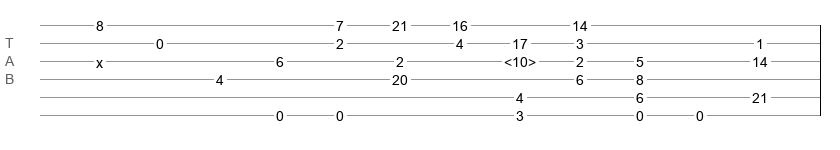0: (156, 36, 164, 46), (276, 108, 284, 118), (336, 108, 344, 118), (636, 108, 644, 118), (696, 108, 704, 118)
1: (756, 36, 764, 46)
14: (572, 18, 588, 28), (752, 54, 768, 64)
16: (452, 18, 468, 28)
17: (512, 36, 528, 46)
2: (336, 36, 344, 46), (396, 54, 404, 64), (576, 54, 584, 64)
20: (392, 72, 408, 82)
21: (392, 18, 408, 28), (752, 90, 768, 100)
3: (516, 108, 524, 118), (576, 36, 584, 46)
4: (216, 72, 224, 82), (456, 36, 464, 46), (516, 90, 524, 100)
5: (636, 54, 644, 64)
6: (276, 54, 284, 64), (576, 72, 584, 82), (636, 90, 644, 100)
7: (336, 18, 344, 28)
8: (96, 18, 104, 28), (636, 72, 644, 82)
harmonic: (504, 54, 536, 64)
x: (96, 55, 103, 63)
